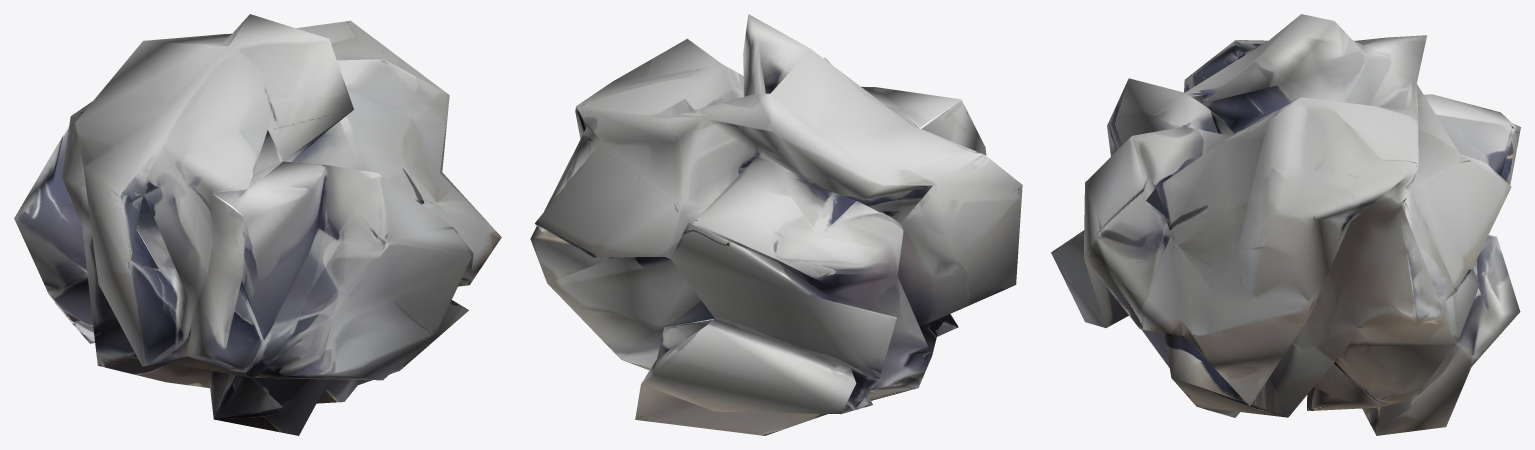
Rendered from CrumbledPaperBall.glb.
3 renders of one model, left to right at view 1: azimuth 30°, elevation 25°; view 2: azimuth 150°, elevation 25°; view 3: azimuth 270°, elevation 25°, orthographic. The views are drawn at different scales.
Parts seen in each view (by area): view 1: tripo_node_c47cfa85-d82b-4f0a-86e2-e6b6469d8f43; view 2: tripo_node_c47cfa85-d82b-4f0a-86e2-e6b6469d8f43; view 3: tripo_node_c47cfa85-d82b-4f0a-86e2-e6b6469d8f43.
Part boxes in pixels (left/top/right/bottom): tripo_node_c47cfa85-d82b-4f0a-86e2-e6b6469d8f43: left=14, top=14, right=501, bottom=435; tripo_node_c47cfa85-d82b-4f0a-86e2-e6b6469d8f43: left=530, top=14, right=1022, bottom=435; tripo_node_c47cfa85-d82b-4f0a-86e2-e6b6469d8f43: left=1051, top=14, right=1520, bottom=435.
Bounding box in the file's own units: 0.9778 × 0.9535 × 1.02.
Materials: 1 (1 with a texture image).
